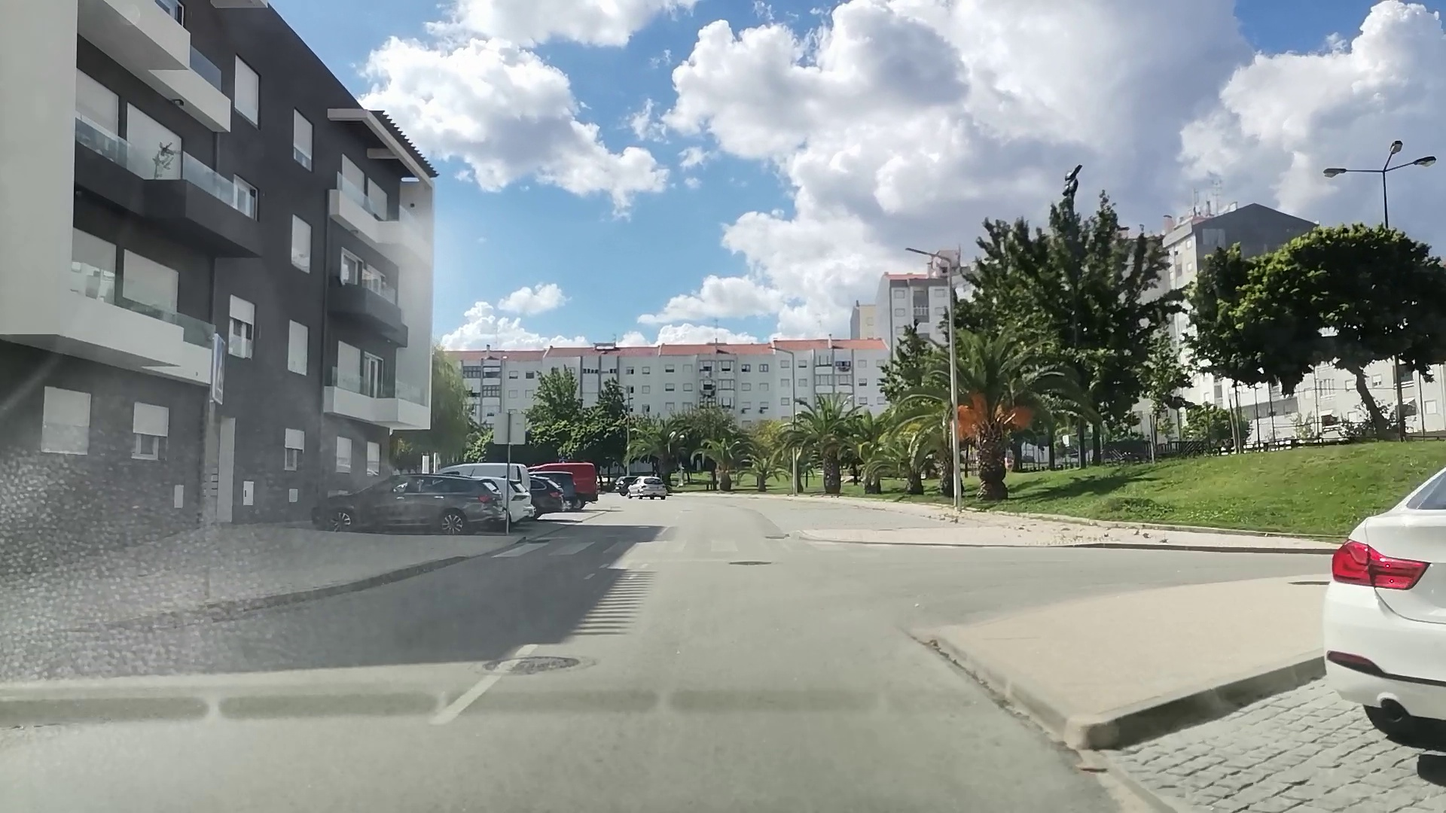Stairs: (491, 537, 817, 558)
